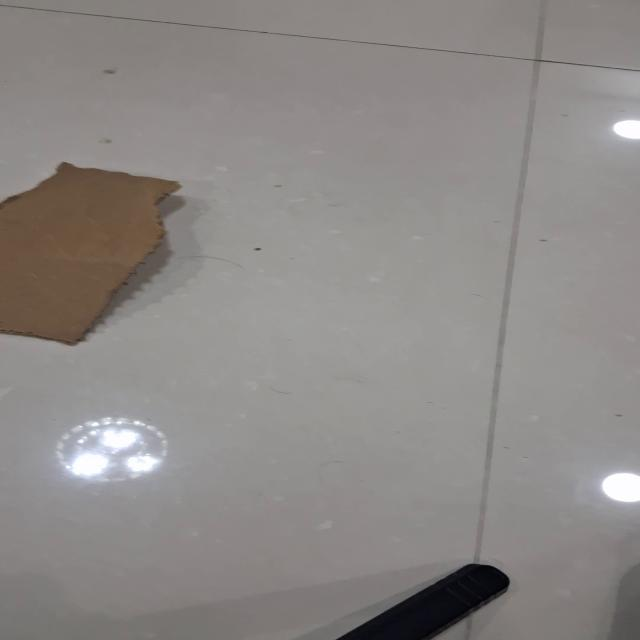paper: (1, 1, 638, 640), (1, 161, 182, 346)
